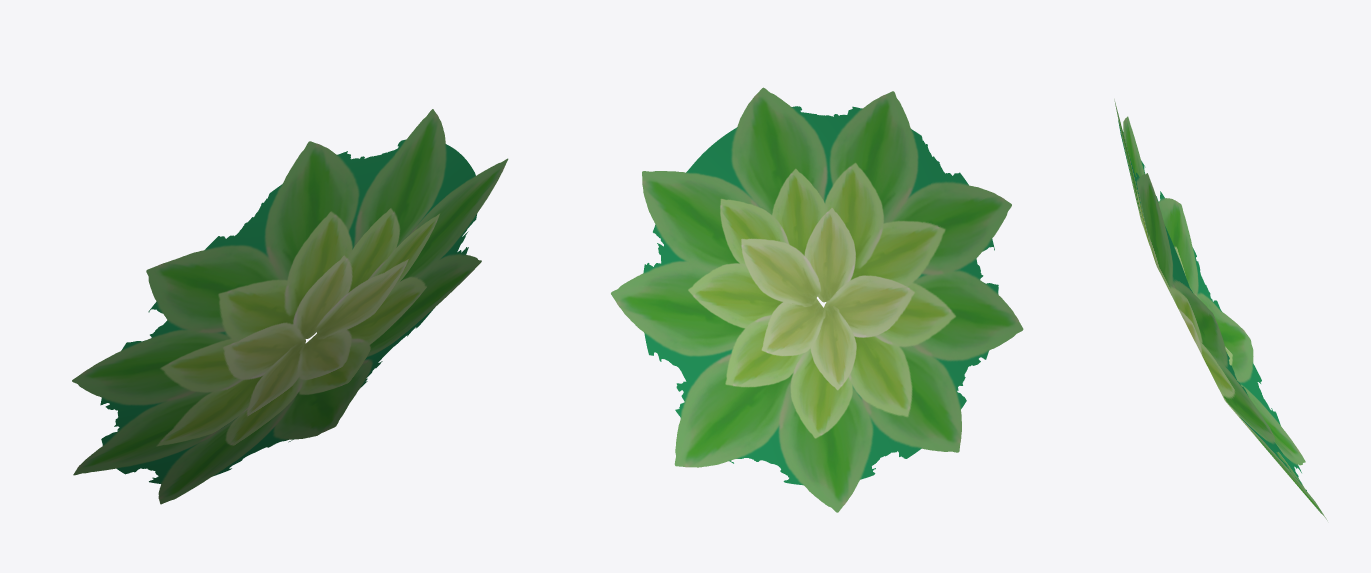
Rendered from Leaves_Plane_1.fbx.
3 renders of one model, left to right at view 1: azimuth 30°, elevation 25°; view 2: azimuth 150°, elevation 25°; view 3: azimuth 270°, elevation 25°, orthographic. The views are drawn at different scales.
Parts seen in each view (by area): view 1: pCube142; view 2: pCube142; view 3: pCube142.
Part boxes in pixels (bbox=[...]): pCube142: bbox=[72, 109, 508, 504]; pCube142: bbox=[611, 87, 1023, 512]; pCube142: bbox=[1114, 99, 1327, 520].
Bounding box in the file's own units: 141 × 137 × 70.32.
